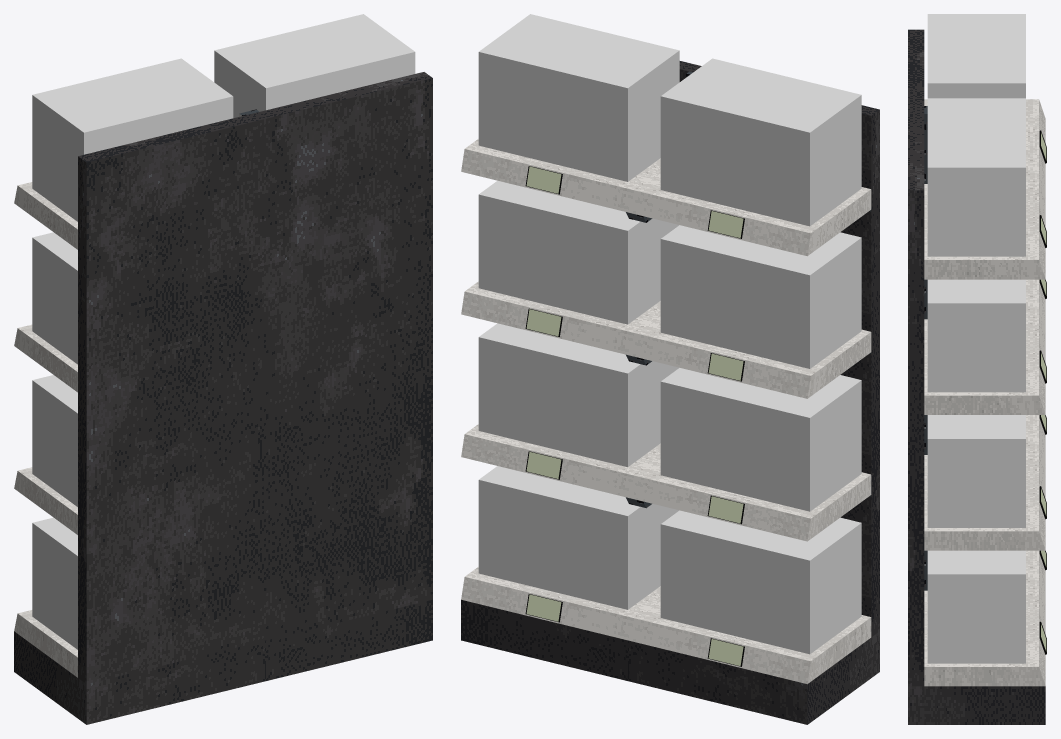
The model's file is MarketShelf.glb.
The picture shows the model from 3 angles, left to right: view 1: azimuth 30°, elevation 25°; view 2: azimuth 150°, elevation 25°; view 3: azimuth 270°, elevation 25°; orthographic projection. The views are drawn at different scales.
Visible parts, largest first — view 1: Market Shelf, ProductZone.001, ProductZone, ProductZone.003, ProductZone.007, ProductZone.005; view 2: Market Shelf, ProductZone.001, ProductZone, ProductZone.003, ProductZone.005, ProductZone.007, ProductZone.004, ProductZone.002, ProductZone.006; view 3: Market Shelf, ProductZone, ProductZone.006, ProductZone.002, ProductZone.004, ProductZone.001.
Part boxes in pixels (box(x1,y1,x2,y2)): Market Shelf: box(14, 72, 432, 724); ProductZone.001: box(32, 58, 233, 221); ProductZone: box(214, 14, 415, 118); ProductZone.003: box(32, 232, 77, 364); ProductZone.007: box(32, 517, 77, 649); ProductZone.005: box(32, 375, 77, 506); Market Shelf: box(461, 61, 879, 724); ProductZone.001: box(660, 58, 861, 226); ProductZone: box(478, 14, 679, 181); ProductZone.003: box(660, 225, 861, 368); ProductZone.005: box(660, 368, 861, 511); ProductZone.007: box(660, 510, 861, 654); ProductZone.004: box(478, 323, 679, 467); ProductZone.002: box(478, 180, 679, 324); ProductZone.006: box(478, 466, 679, 609); Market Shelf: box(908, 29, 1046, 724); ProductZone: box(927, 98, 1025, 256); ProductZone.006: box(927, 550, 1025, 663); ProductZone.002: box(927, 279, 1025, 392); ProductZone.004: box(927, 415, 1025, 527); ProductZone.001: box(927, 14, 1025, 98).
Bounding box in the file's own units: 1.16 × 1.87 × 0.4237.
3 materials, 1 textured.
